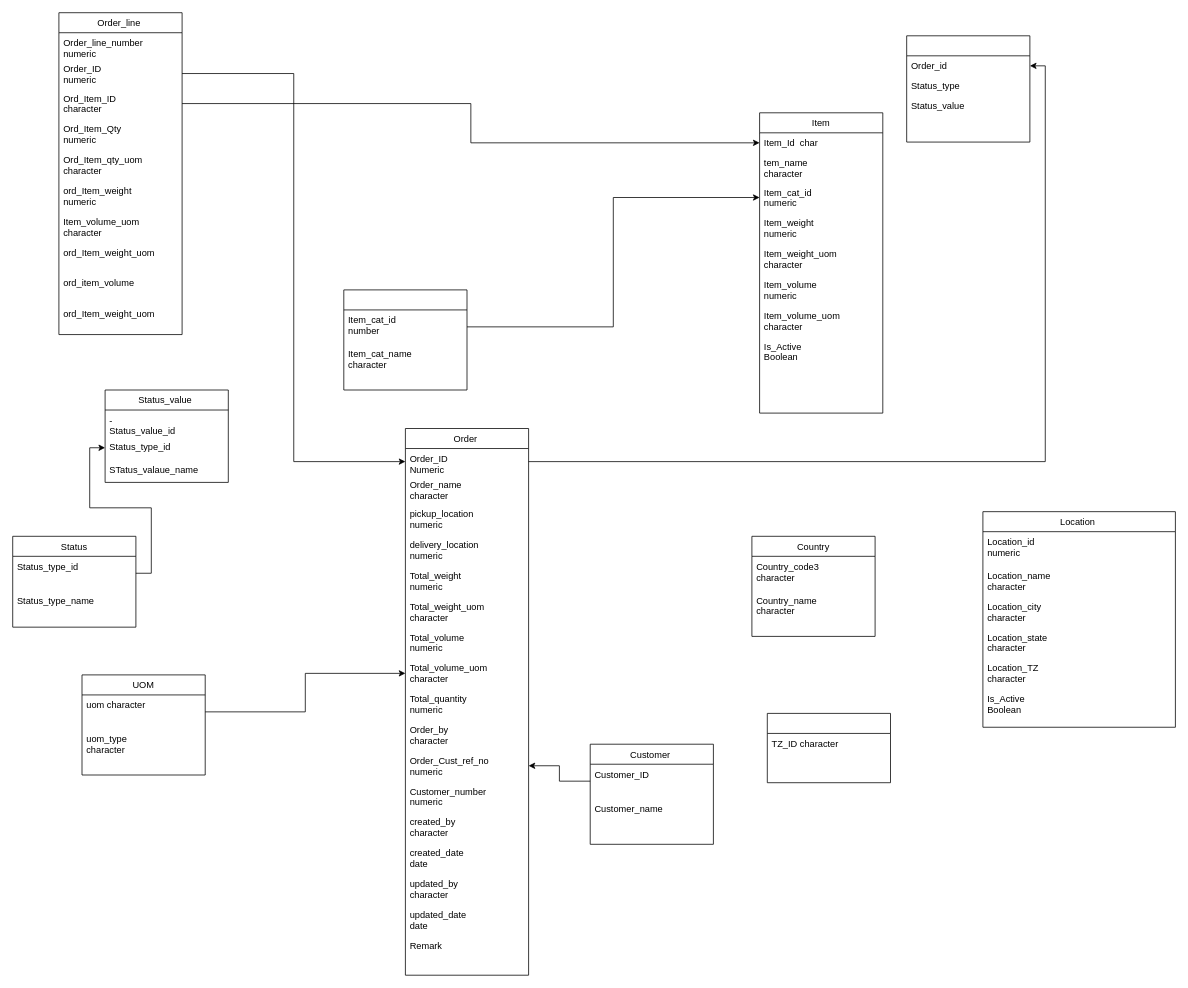
Some shapes in this 1188 by 988 pixel diagram are drawn without their labels. Each missing label, with the box of its shape:
Item_Category: (343, 289, 467, 390)
Order_status: (906, 35, 1030, 142)
Time_Zone: (767, 713, 891, 783)
